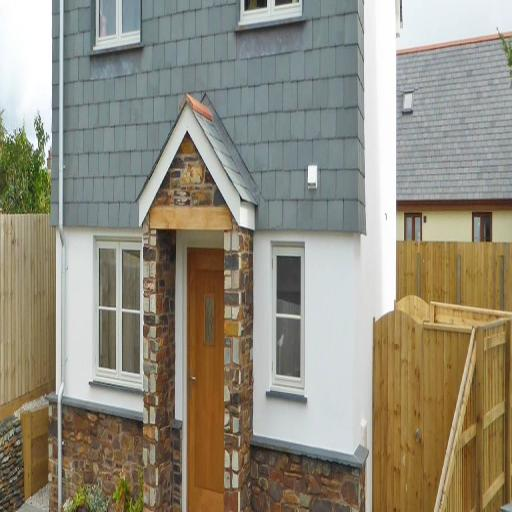door: (175, 247, 231, 512)
